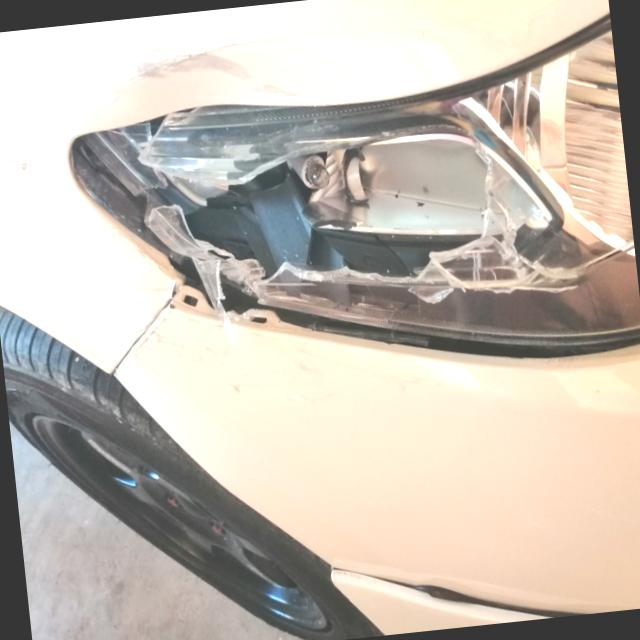Phare abime: (55, 62, 596, 389)
Rayure: (90, 21, 363, 111)
